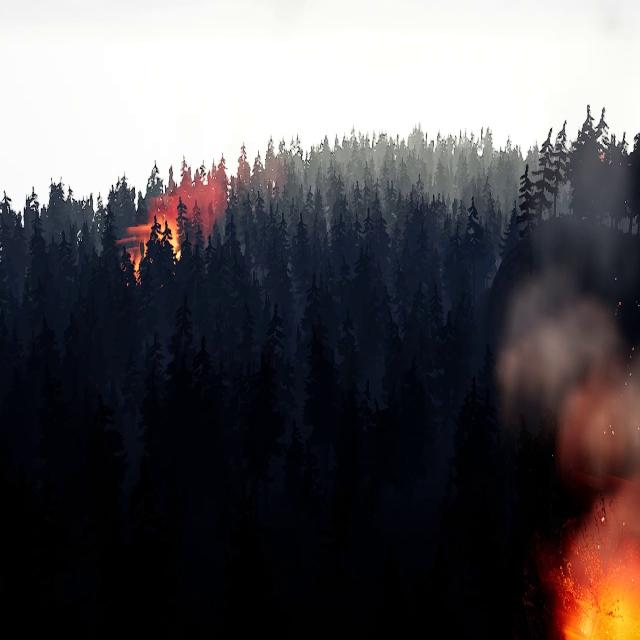fire: (554, 533, 639, 639), (124, 214, 182, 281)
smoke: (496, 153, 640, 637), (158, 165, 228, 232)
